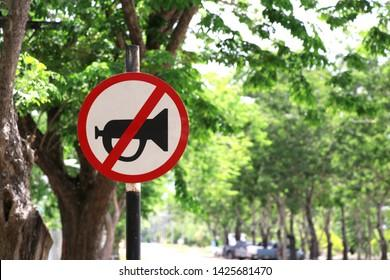Horn Prohibited: (74, 66, 206, 197)
